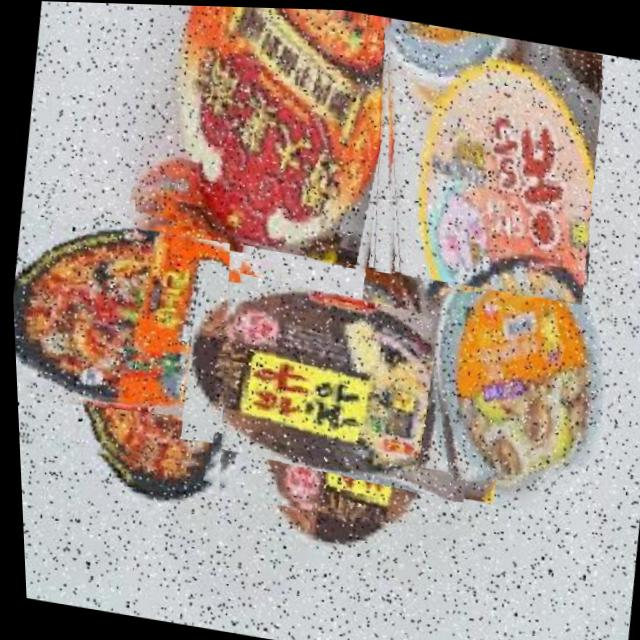Miscellaneous: (6, 172, 328, 492), (193, 239, 491, 535), (123, 2, 417, 268), (390, 196, 640, 500), (352, 14, 614, 302)
